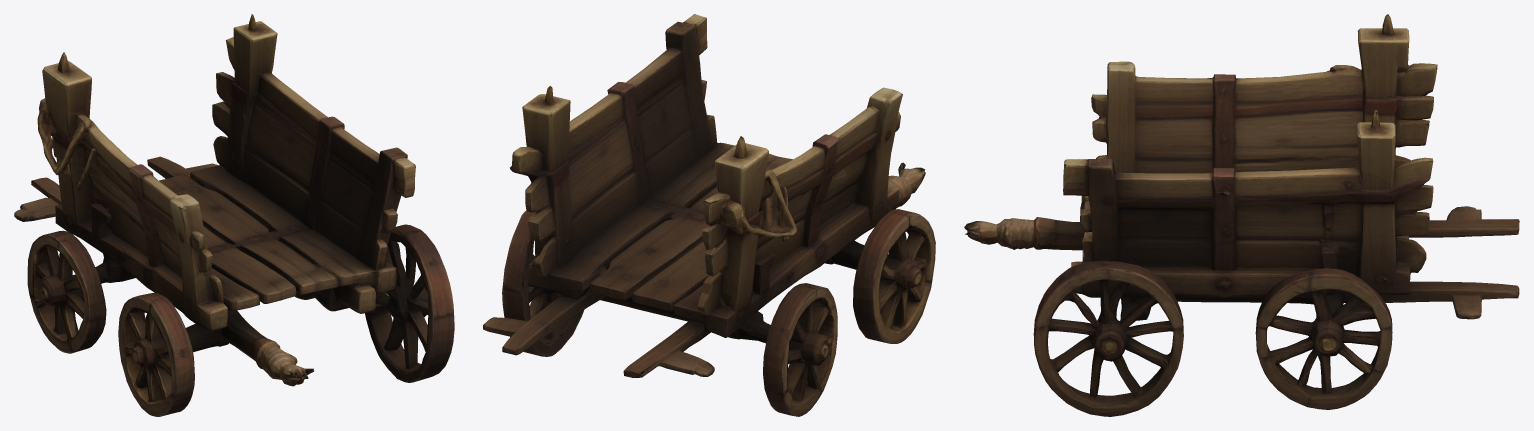
File: cart.glb
The picture shows the model from 3 angles, left to right: view 1: azimuth 30°, elevation 25°; view 2: azimuth 150°, elevation 25°; view 3: azimuth 270°, elevation 25°; orthographic projection. The views are drawn at different scales.
Visible parts, largest first — view 1: geometry_0; view 2: geometry_0; view 3: geometry_0.
Boxes of the visible parts, box(x1,y1,x2,y2) form: geometry_0: box(14, 14, 454, 416); geometry_0: box(483, 14, 935, 416); geometry_0: box(964, 14, 1519, 416).
Bounding box in the file's own units: 0.6151 × 0.5773 × 0.9983.
Materials: 1 (1 with a texture image).
